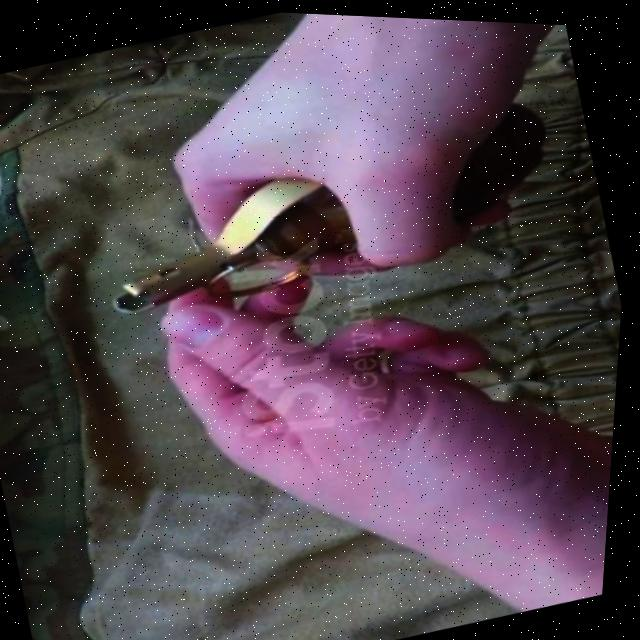grenade: (60, 37, 581, 377)
